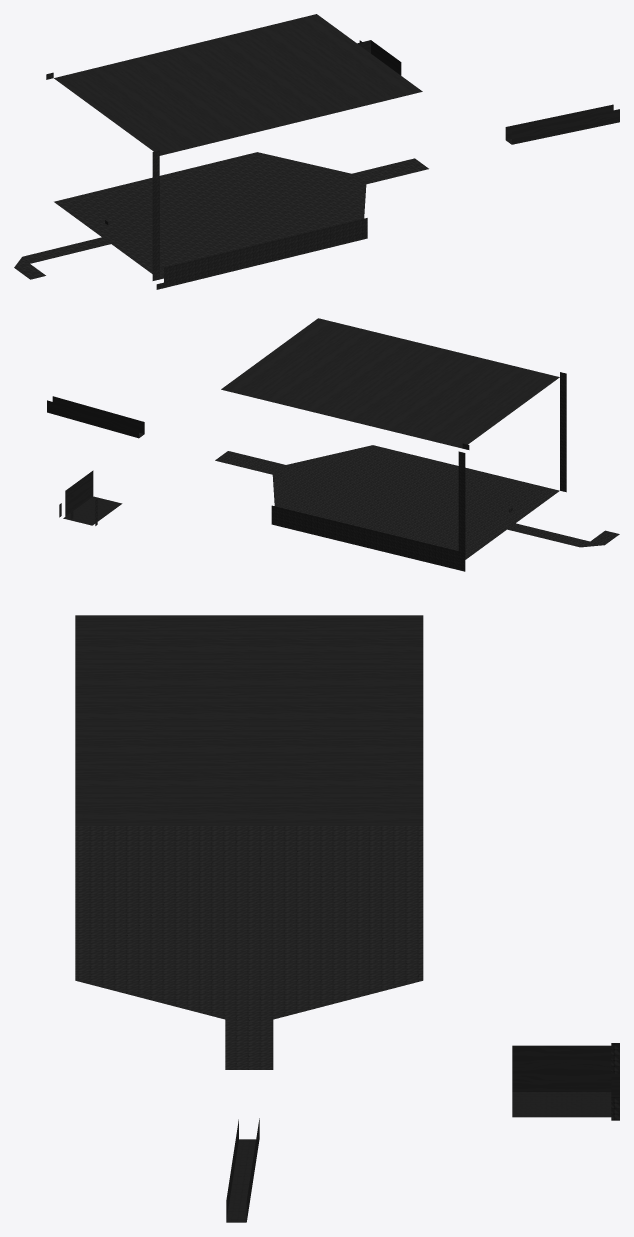
The model's file is mainroomBLACK.fbx.
3 views of the same model, one above another, from view 1: azimuth 30°, elevation 25°; view 2: azimuth 150°, elevation 25°; view 3: azimuth 270°, elevation 25° (orthographic). The views are drawn at different scales.
Visible parts, largest first — view 1: mesh_26; view 2: mesh_26; view 3: mesh_26.
Part boxes in pixels (x1,y1,x2,y2): mesh_26: (14,14,619,289); mesh_26: (47,318,619,571); mesh_26: (75,615,619,1222).
Bounding box in the file's own units: 10712 × 2288 × 5686.
